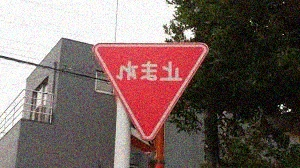Regulatory_sign_triangle: (88, 37, 216, 149)
